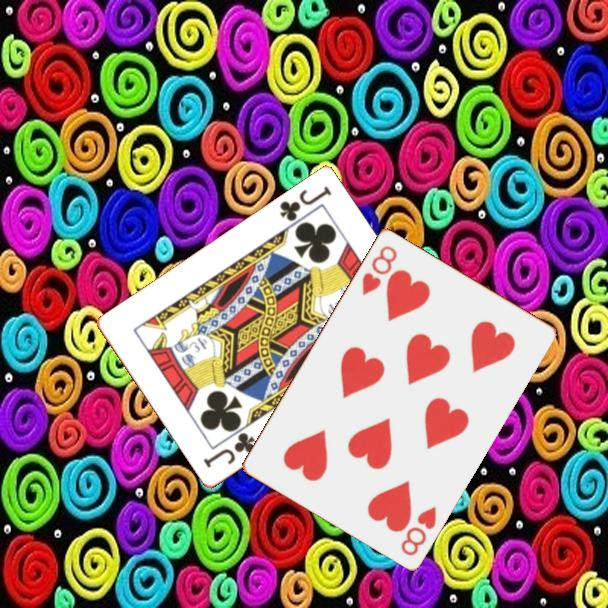c11: (199, 429, 258, 471), (276, 183, 335, 225)
h08: (358, 242, 400, 298), (397, 502, 439, 558)
